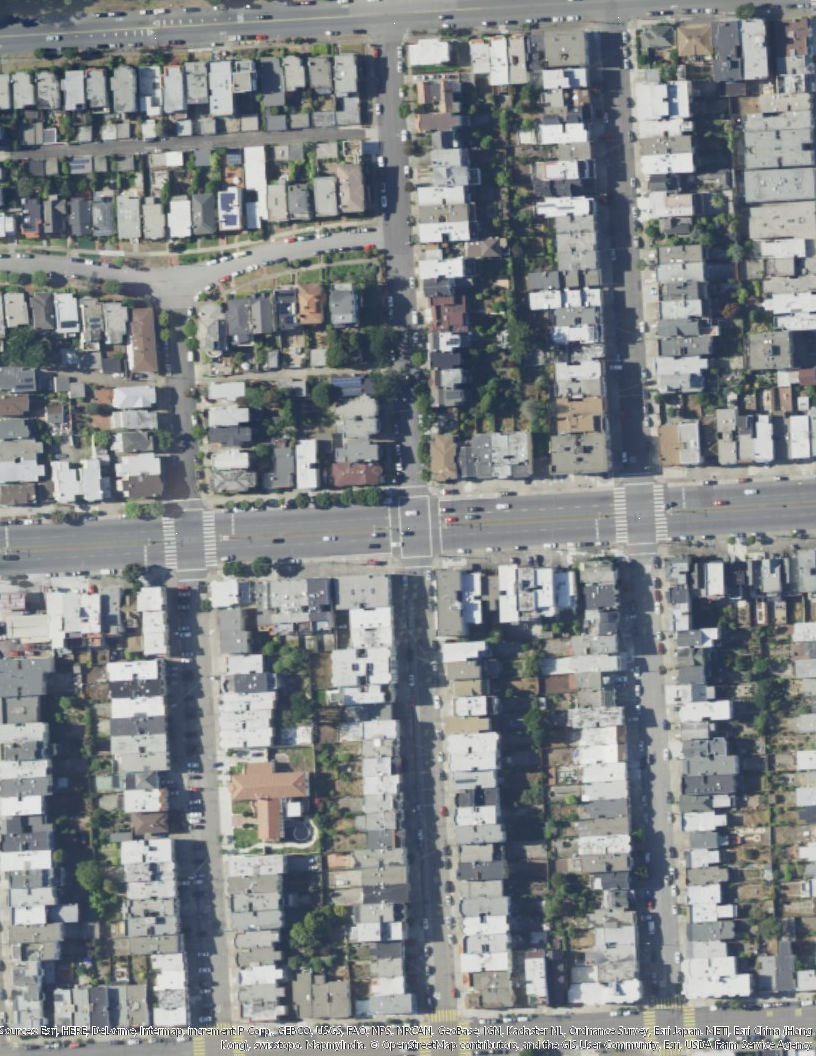zebracross: (652, 485, 670, 543), (612, 486, 629, 544), (201, 511, 217, 567), (162, 515, 178, 568), (683, 1008, 698, 1052), (651, 997, 687, 1012), (642, 1011, 657, 1047), (426, 1009, 459, 1023), (199, 1023, 234, 1032), (191, 1036, 205, 1056), (233, 1033, 245, 1056)
